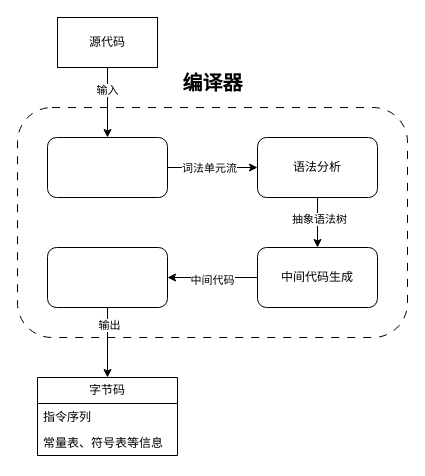
This 425x476 diagram has some shape labels left out. Each missing label, with the box of its shape:
字节码生成: (46, 246, 168, 308)
词法分析: (46, 136, 168, 198)
